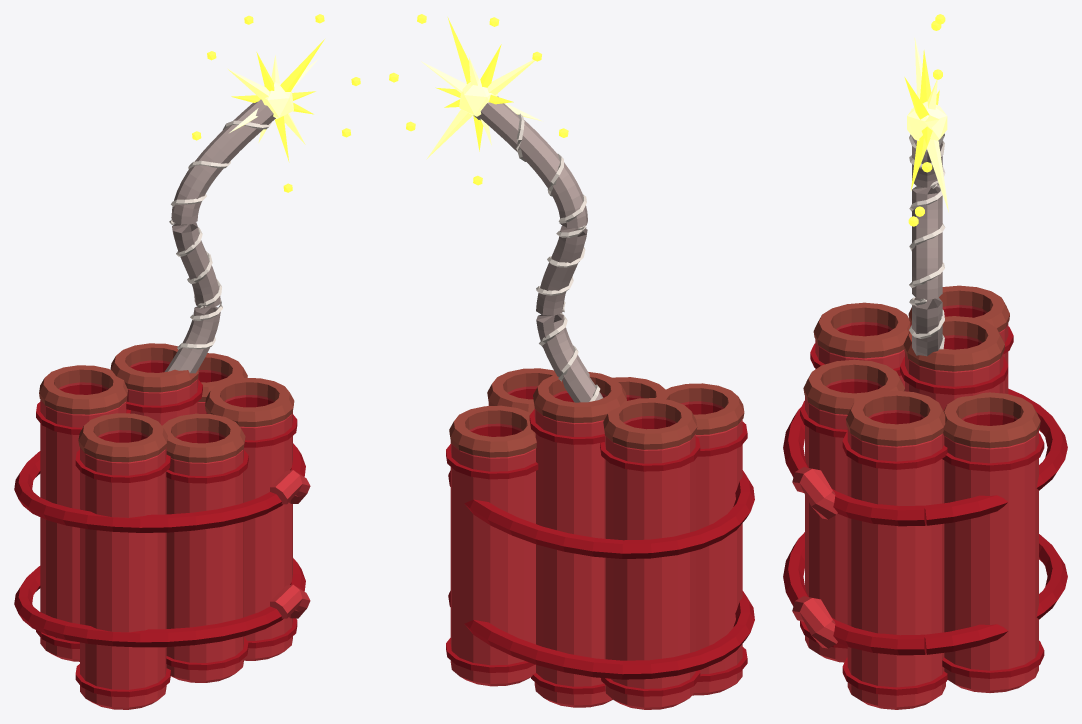
Rendered from thr.firecracker-lure.glb.
The picture shows the model from 3 angles, left to right: view 1: azimuth 30°, elevation 25°; view 2: azimuth 150°, elevation 25°; view 3: azimuth 270°, elevation 25°; orthographic projection. The views are drawn at different scales.
Bounding box in the file's own units: 0.2552 × 0.4515 × 0.1681.
